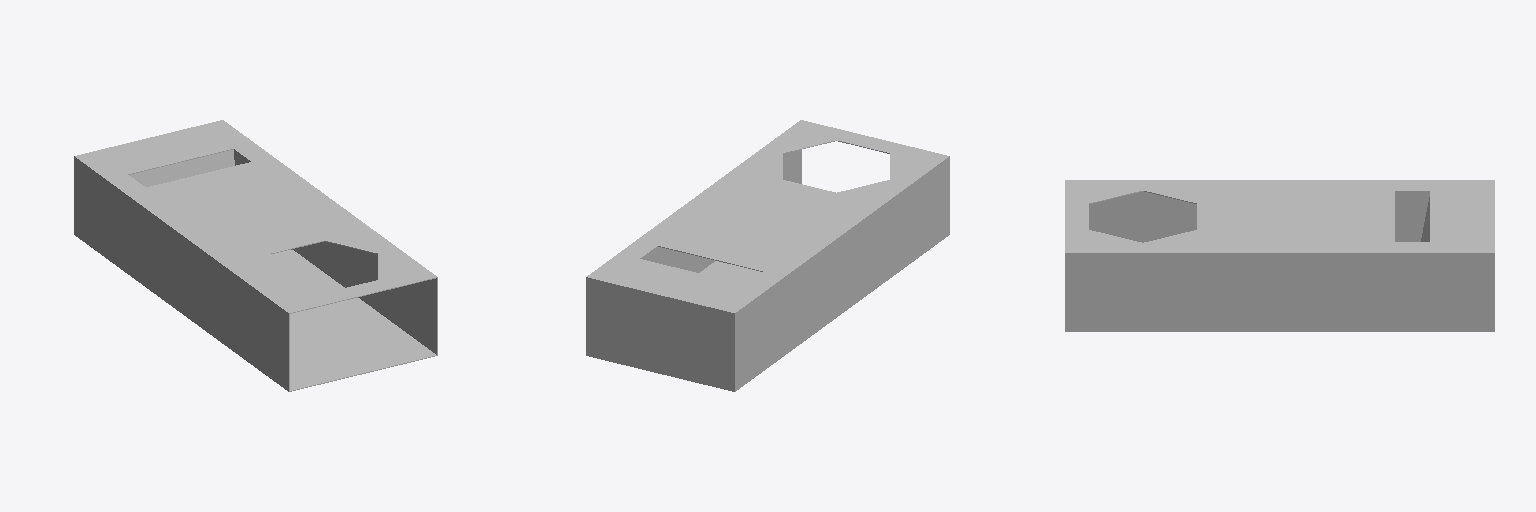
File: power-port.obj
3 renders of one model, left to right at view 1: azimuth 30°, elevation 25°; view 2: azimuth 150°, elevation 25°; view 3: azimuth 270°, elevation 25°, orthographic.
Visible parts, largest first — view 1: Body1; view 2: Body1; view 3: Body1.
Boxes of the visible parts, x1=… form: Body1: x1=74, y1=120, x2=437, y2=391; Body1: x1=586, y1=120, x2=949, y2=391; Body1: x1=1065, y1=180, x2=1494, y2=331.
Bounding box in the file's own units: 1219 × 616 × 3048.